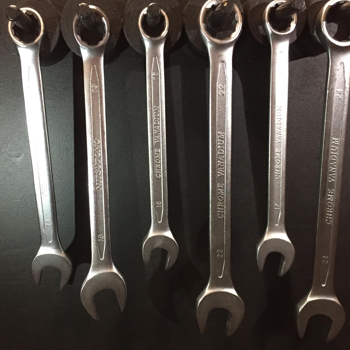bottom: (292, 286, 347, 345), (192, 284, 246, 340), (78, 266, 129, 322), (28, 245, 75, 293), (252, 232, 297, 277), (139, 227, 180, 271)
top: (195, 1, 244, 51), (69, 3, 113, 51), (5, 4, 48, 51), (313, 0, 349, 54), (262, 0, 302, 41), (137, 4, 172, 43)
